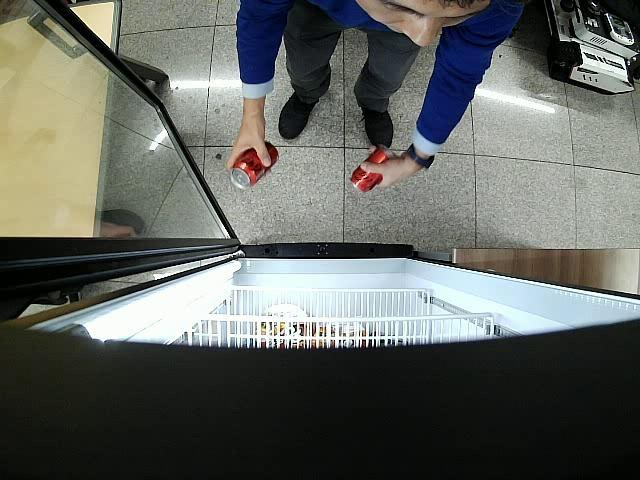11_cocaColaZero: (350, 145, 398, 194), (231, 142, 279, 190)
